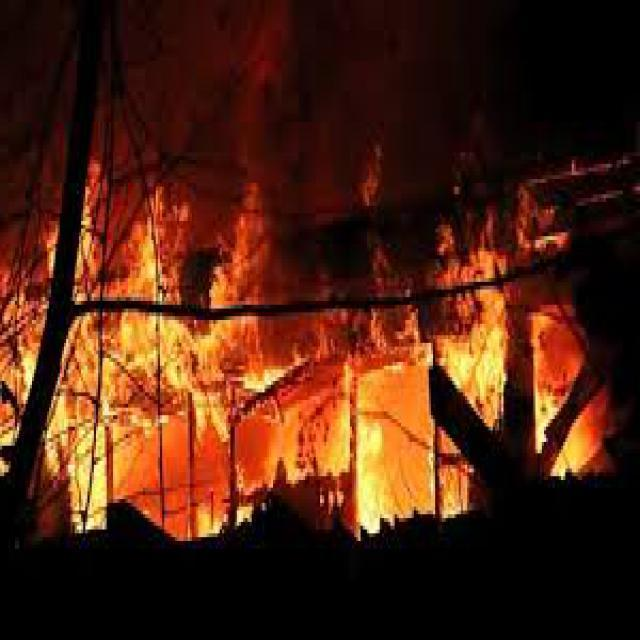Fire: (0, 210, 610, 567)
Smoke: (225, 0, 618, 348)
